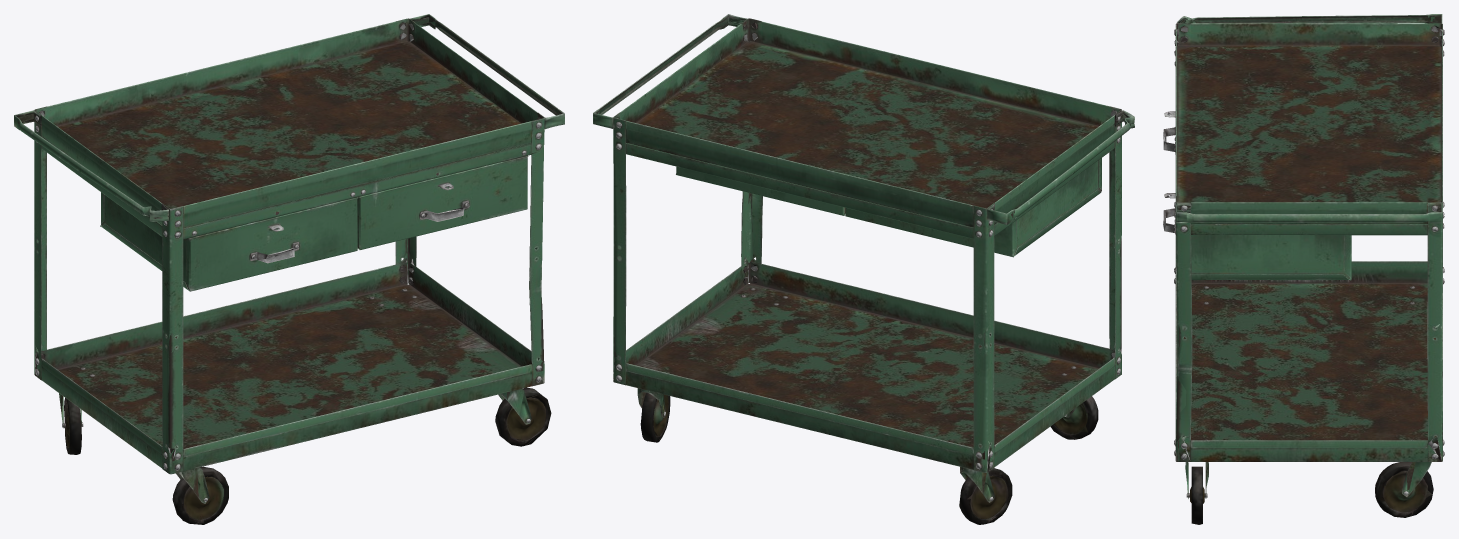
Rendered from ToolCart.obj.
The picture shows the model from 3 angles, left to right: view 1: azimuth 30°, elevation 25°; view 2: azimuth 150°, elevation 25°; view 3: azimuth 270°, elevation 25°; orthographic projection. The views are drawn at different scales.
Visible parts, largest first — view 1: Cart; view 2: Cart; view 3: Cart.
Part boxes in pixels (box(x1,y1,x2,y2)): Cart: box(14, 14, 564, 524); Cart: box(593, 14, 1134, 524); Cart: box(1163, 14, 1444, 524).
Bounding box in the file's own units: 1.27 × 0.9631 × 0.7536.
Materials: 1 (1 with a texture image).
